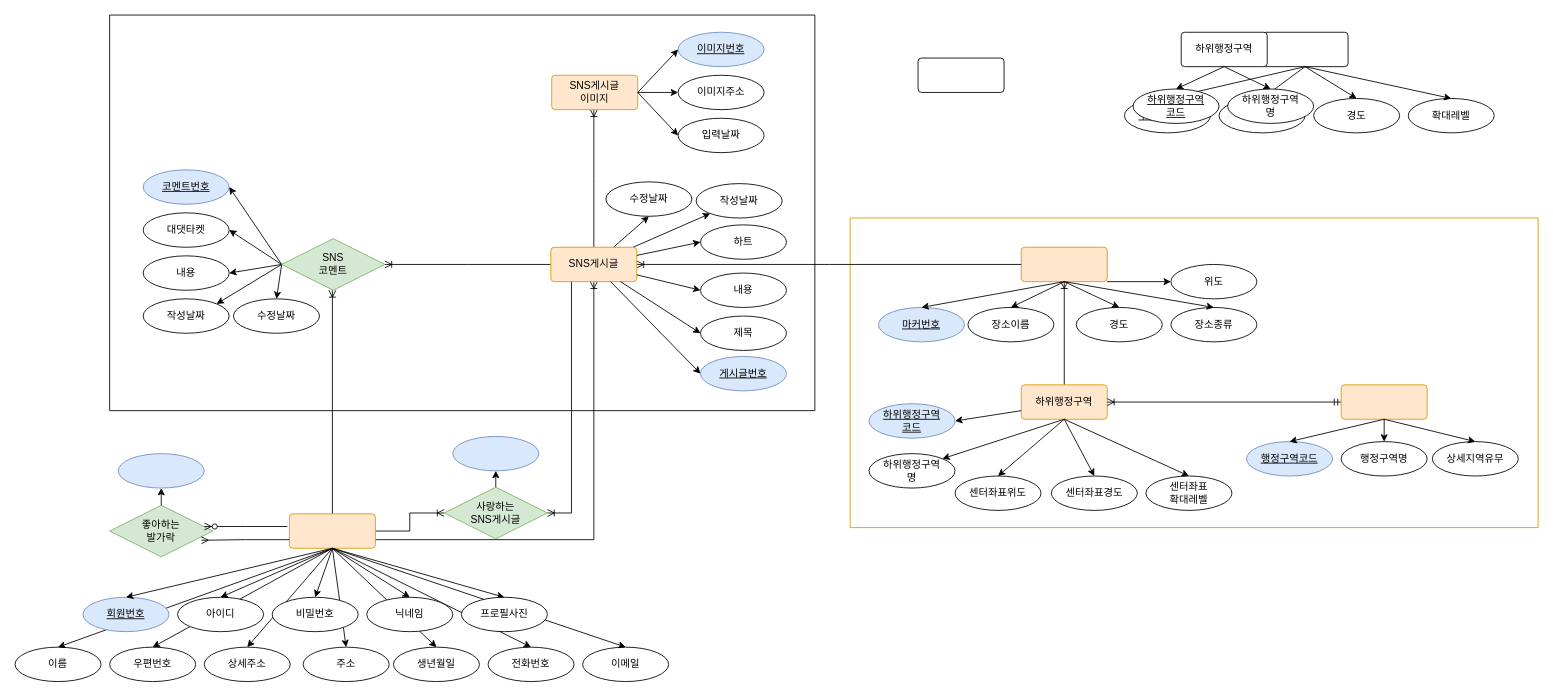
Image size: 1553x697. Some labels were removed from this diagram. Each missing label, with the box of its shape:
API지도 마커데이터: (1020, 246, 1107, 282)
API지도 지역별 센터좌표: (1261, 31, 1348, 67)
좋아하는 번호: (117, 453, 204, 488)
추천경로: (917, 57, 1004, 92)
하트 번호: (452, 436, 539, 471)
행정구역: (1340, 384, 1427, 419)
회원: (289, 513, 375, 548)
